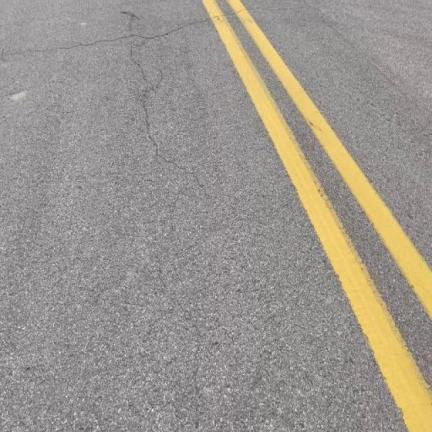Road: (0, 0, 416, 431)
